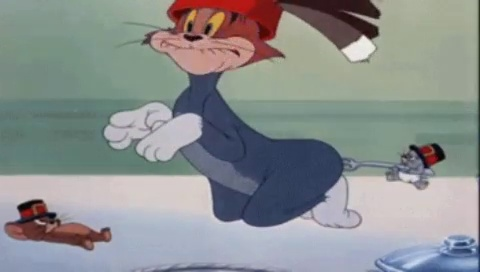tom: (101, 1, 367, 232)
